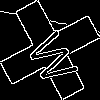W: (25, 25, 87, 88)
